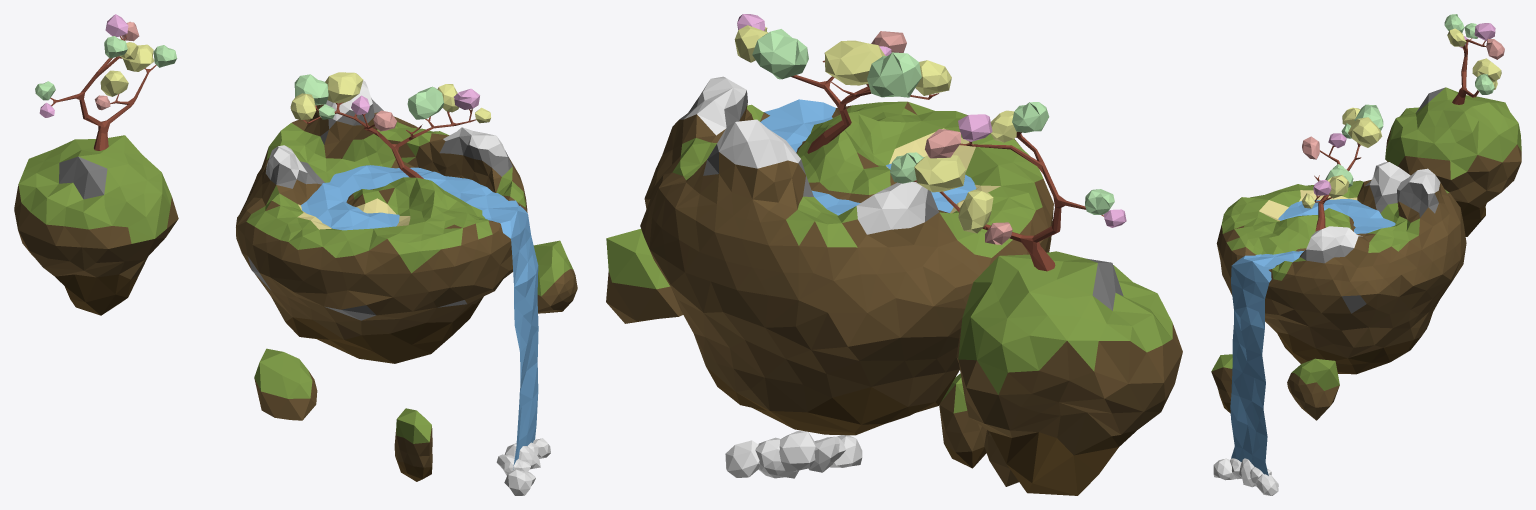
The model's file is full_island.glb.
3 views of the same model, side by side, from view 1: azimuth 30°, elevation 25°; view 2: azimuth 150°, elevation 25°; view 3: azimuth 270°, elevation 25° (orthographic). The views are drawn at different scales.
Parts seen in each view (by area): view 1: island, island1, water, Icosphere, Icosphere.011, Icosphere.009, water catch; view 2: island, island1, Icosphere.011, water catch, water, Icosphere.009, Icosphere; view 3: island, island1, water, Icosphere.011, water catch, Icosphere.009.
Part boxes in pixels (x1,y1,x2,y2): island: (236, 72, 527, 363); island1: (14, 14, 178, 315); water: (301, 165, 538, 469); Icosphere: (254, 348, 317, 420); Icosphere.011: (533, 240, 577, 313); Icosphere.009: (394, 408, 432, 481); water catch: (496, 438, 550, 495); island: (640, 14, 1053, 435); island1: (890, 102, 1182, 495); Icosphere.011: (606, 229, 682, 323); water catch: (725, 431, 862, 478); water: (760, 99, 976, 215); Icosphere.009: (939, 373, 986, 468); Icosphere: (984, 430, 1018, 486); island: (1216, 104, 1466, 374); island1: (1385, 14, 1521, 236); water: (1230, 199, 1395, 475); Icosphere.011: (1287, 358, 1339, 420); water catch: (1213, 458, 1278, 495); Icosphere.009: (1211, 354, 1232, 413).
Size of the model in its own units: 36.59 by 31.22 by 24.83.
